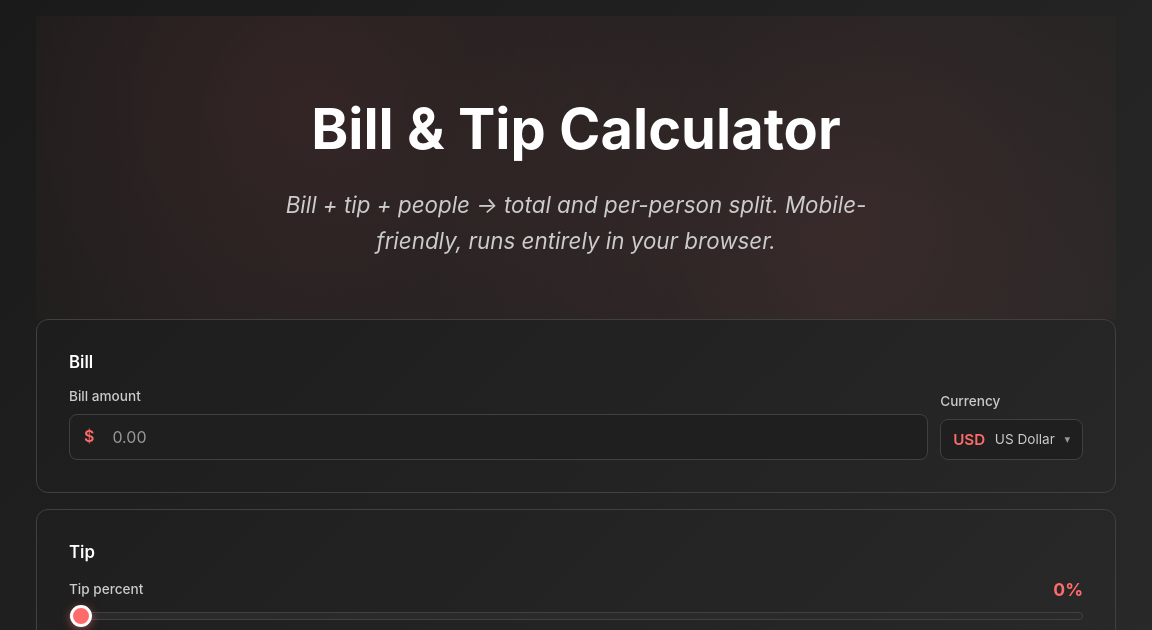
Test: <TipCalculator /> — page render › switching currency from USD to EUR re-renders the displayed amount
Type "100" into the number field labelled "Bill amount" at (513, 437), box [98, 415, 927, 459]
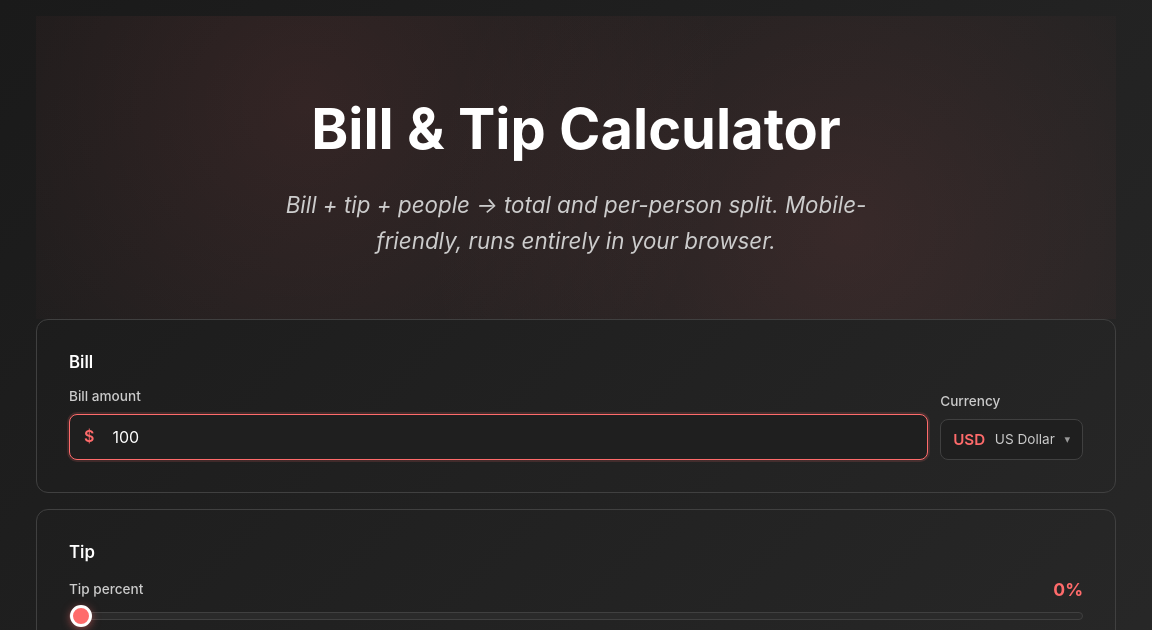
Note: Open the currency popover, click the EUR row.
Click the button "USD US Dollar ▾" at (1012, 439), box [940, 419, 1083, 460]
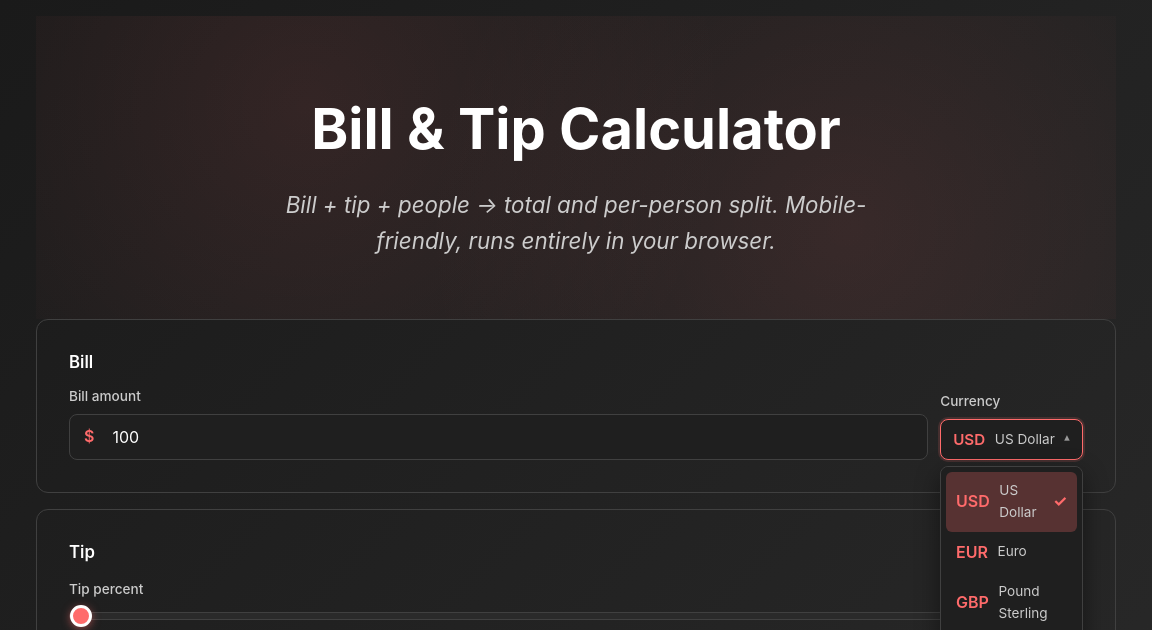
Click the option "EUR Euro" at (972, 552), box [956, 542, 1027, 562]
(page scrolled)
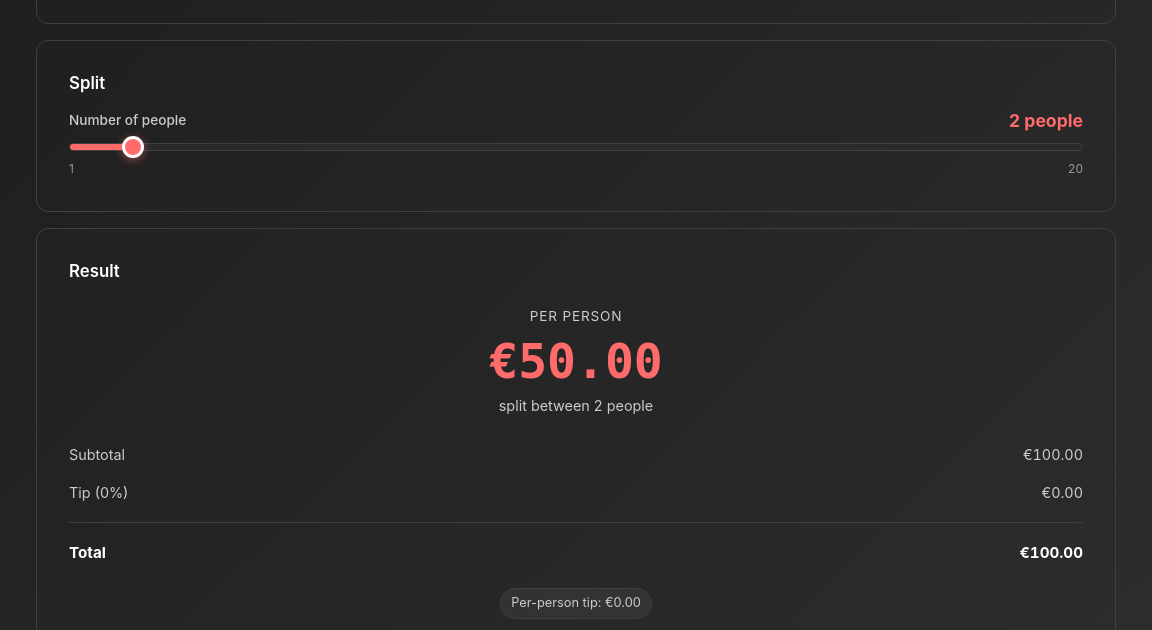
Expected: the text "€50.00" is shown, [489, 332, 663, 388]
